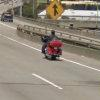Motorcycle: (35, 29, 69, 60)
